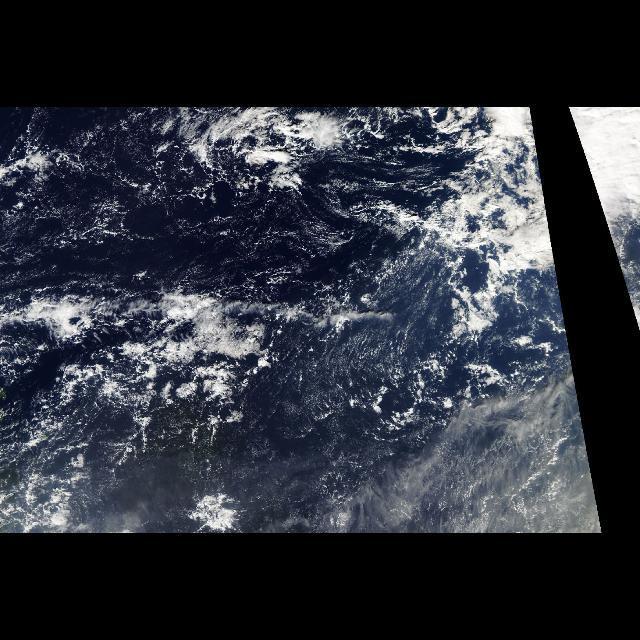Gravel: (56, 118, 242, 270)
Sugar: (4, 117, 388, 291), (275, 326, 595, 528)
